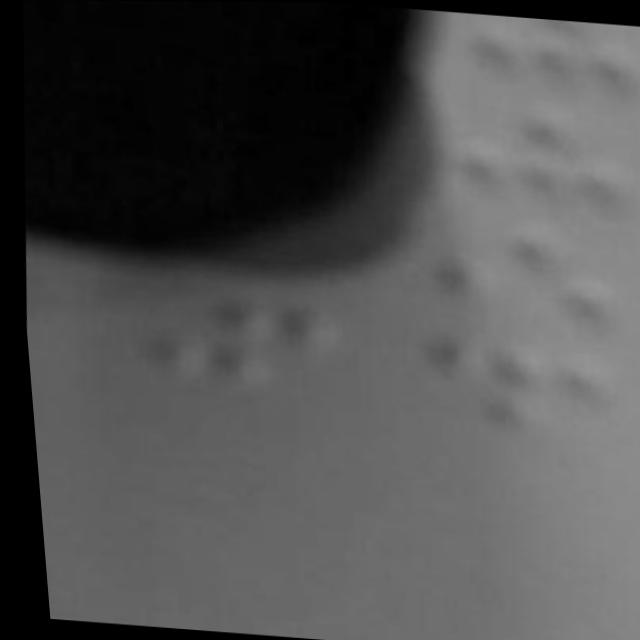braiile: (396, 328, 635, 450), (413, 198, 634, 328), (129, 288, 364, 404), (426, 92, 640, 211), (441, 11, 640, 99)
